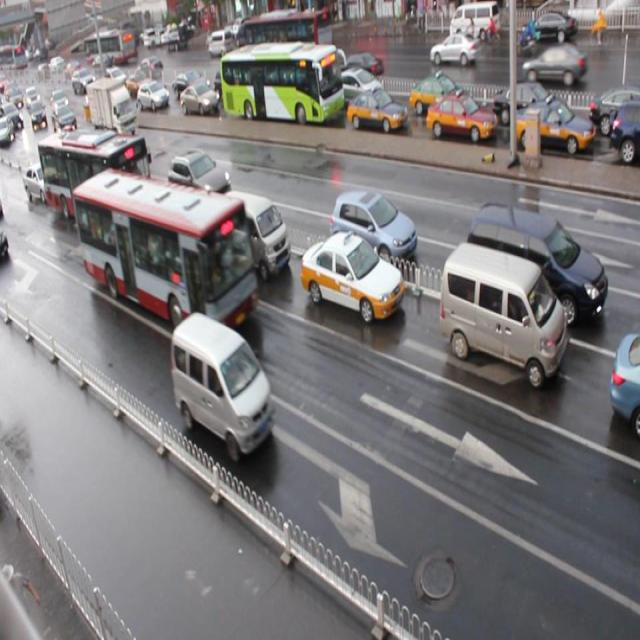bus: (88, 76, 138, 143)
car: (299, 228, 402, 322), (330, 190, 416, 269), (514, 99, 594, 159), (138, 187, 206, 252), (168, 147, 232, 210), (425, 92, 497, 144), (494, 82, 570, 128), (608, 330, 640, 434), (406, 74, 469, 119), (345, 87, 406, 133), (586, 89, 640, 135), (332, 64, 387, 108), (609, 99, 640, 161), (22, 159, 60, 204), (180, 79, 220, 115), (213, 69, 246, 104), (172, 72, 208, 97), (138, 81, 169, 109), (52, 105, 78, 136), (105, 81, 130, 110), (128, 71, 155, 94)
truck: (438, 240, 566, 388), (466, 202, 606, 330), (170, 314, 275, 463), (214, 187, 289, 281)
van: (73, 167, 261, 352), (37, 126, 154, 235), (216, 42, 339, 125)
